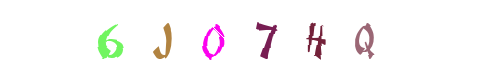6: (69, 0, 149, 80)
7: (221, 0, 301, 80)
H: (234, 0, 314, 80)
J: (173, 0, 253, 80)
O: (210, 0, 290, 80)
Q: (250, 0, 330, 80)
